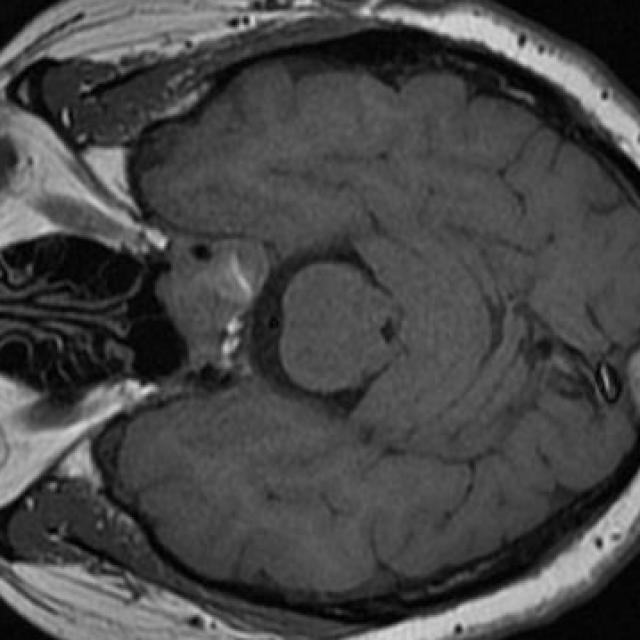pituitary: (155, 241, 269, 369)
